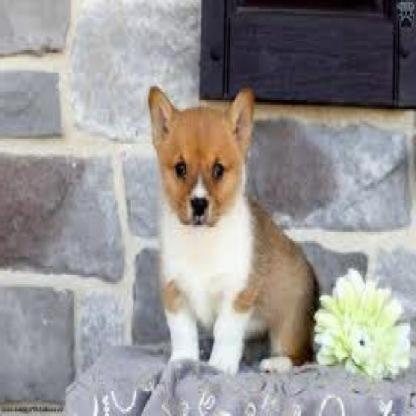dog: (147, 85, 320, 376)
